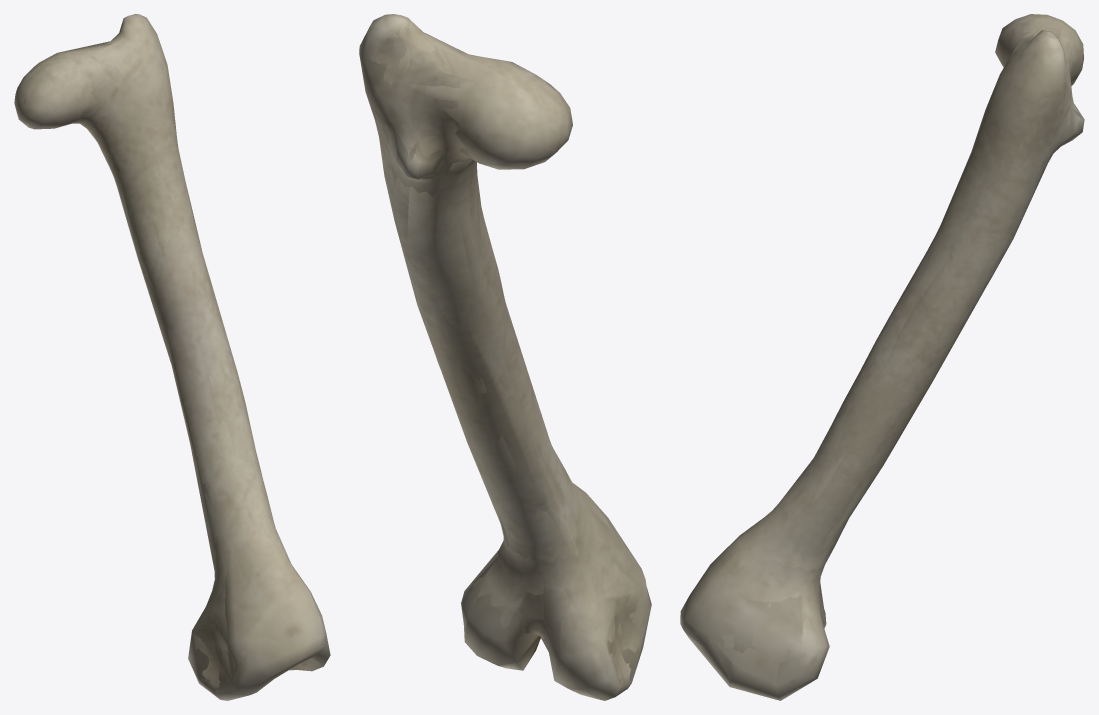
The model's file is L Femur.fbx.
The picture shows the model from 3 angles, left to right: view 1: azimuth 30°, elevation 25°; view 2: azimuth 150°, elevation 25°; view 3: azimuth 270°, elevation 25°; orthographic projection. The views are drawn at different scales.
Parts seen in each view (by area): view 1: L Femur, L Femur low, L Femur high; view 2: L Femur, L Femur low, L Femur high; view 3: L Femur, L Femur low, L Femur high.
Boxes of the visible parts, bbox=[...] form: L Femur: bbox=[14, 14, 326, 700]; L Femur low: bbox=[15, 20, 330, 699]; L Femur high: bbox=[28, 25, 323, 694]; L Femur: bbox=[359, 14, 651, 700]; L Femur low: bbox=[363, 18, 651, 692]; L Femur high: bbox=[370, 16, 642, 679]; L Femur: bbox=[680, 14, 1084, 700]; L Femur low: bbox=[680, 14, 1084, 699]; L Femur high: bbox=[693, 16, 1082, 688].
Size of the model in its own units: 2.71 by 8.4 by 4.72.
Materials: 1 (1 with a texture image).
